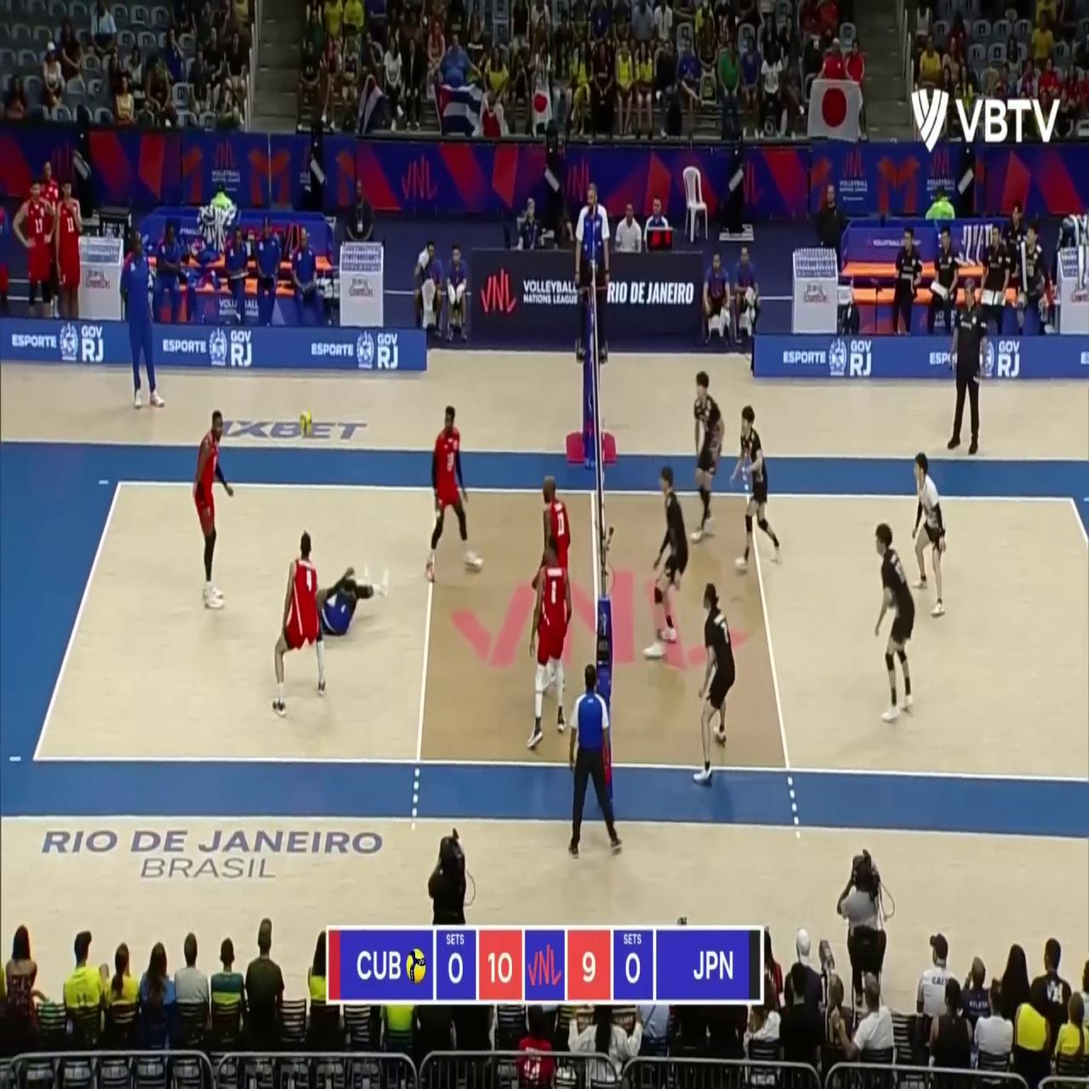ball: (300, 413, 312, 435)
